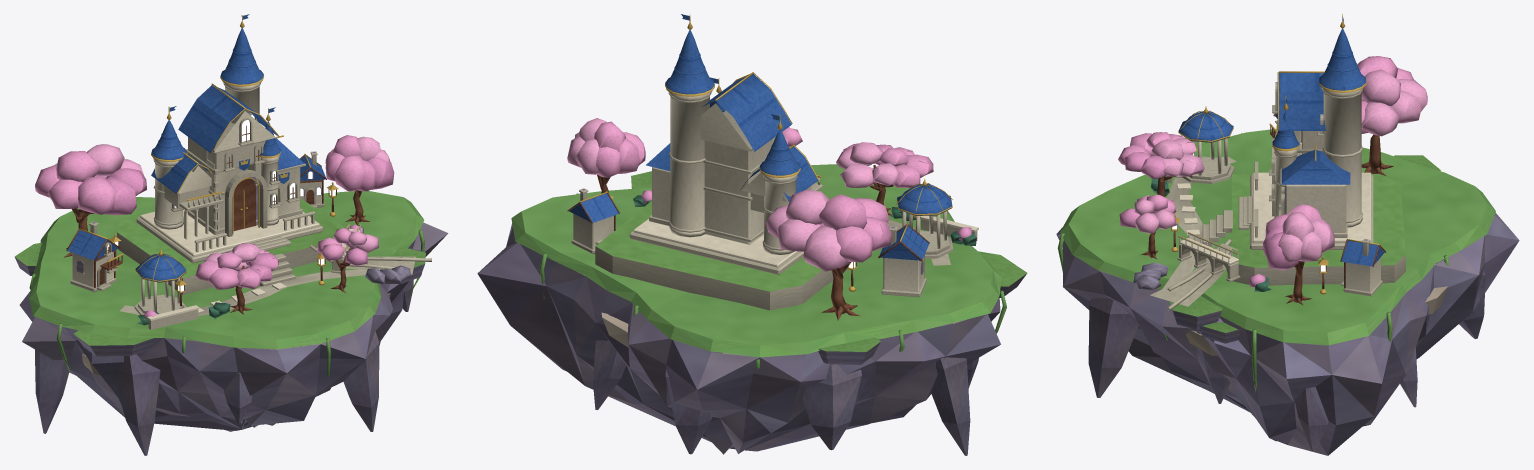
File: royal-island-right-v2-balanced.glb
3 renders of one model, left to right at view 1: azimuth 30°, elevation 25°; view 2: azimuth 150°, elevation 25°; view 3: azimuth 270°, elevation 25°, orthographic. The views are drawn at different scales.
Parts seen in each view (by area): view 1: royal-island-right-v2; view 2: royal-island-right-v2; view 3: royal-island-right-v2.
Boxes of the visible parts, x1,y1,x2,y2 form: royal-island-right-v2: (14,14,448,455); royal-island-right-v2: (477,14,1027,455); royal-island-right-v2: (1056,14,1519,455).
Bounding box in the file's own units: 18.98 × 16.74 × 16.22.
10 materials, 10 textured.
